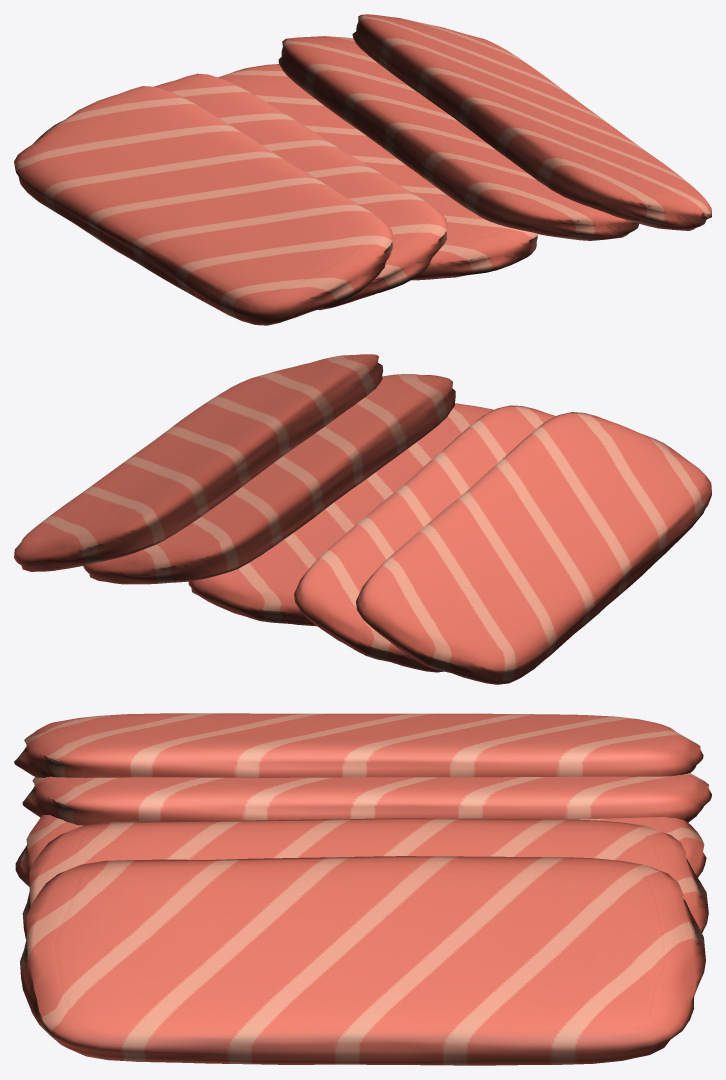
Rendered from ikanpotong.fbx.
3 renders of one model, top to bottom at view 1: azimuth 30°, elevation 25°; view 2: azimuth 150°, elevation 25°; view 3: azimuth 270°, elevation 25°, orthographic. The views are drawn at different scales.
Visible parts, largest first — view 1: Cube.003, Cube.004, Cube.002, Cube.001, Cube; view 2: Cube.003, Cube.004, Cube.002, Cube.001, Cube; view 3: Cube.004, Cube.003, Cube.001, Cube.002, Cube.
Part boxes in pixels (<box>): Cube.003: <box>14,86,393,325</box>; Cube.004: <box>352,14,711,230</box>; Cube.002: <box>278,36,638,240</box>; Cube.001: <box>154,73,448,310</box>; Cube: <box>218,64,538,280</box>; Cube.003: <box>355,412,711,684</box>; Cube.004: <box>14,354,383,571</box>; Cube.002: <box>83,374,455,584</box>; Cube.001: <box>294,405,555,672</box>; Cube: <box>188,403,493,626</box>; Cube.004: <box>20,856,705,1065</box>; Cube.003: <box>14,713,703,777</box>; Cube.001: <box>22,773,711,825</box>; Cube.002: <box>22,818,708,939</box>; Cube: <box>15,815,706,886</box>.
Size of the model in its own units: 40.7 by 7.16 by 37.32.
Materials: 1 (1 with a texture image).
